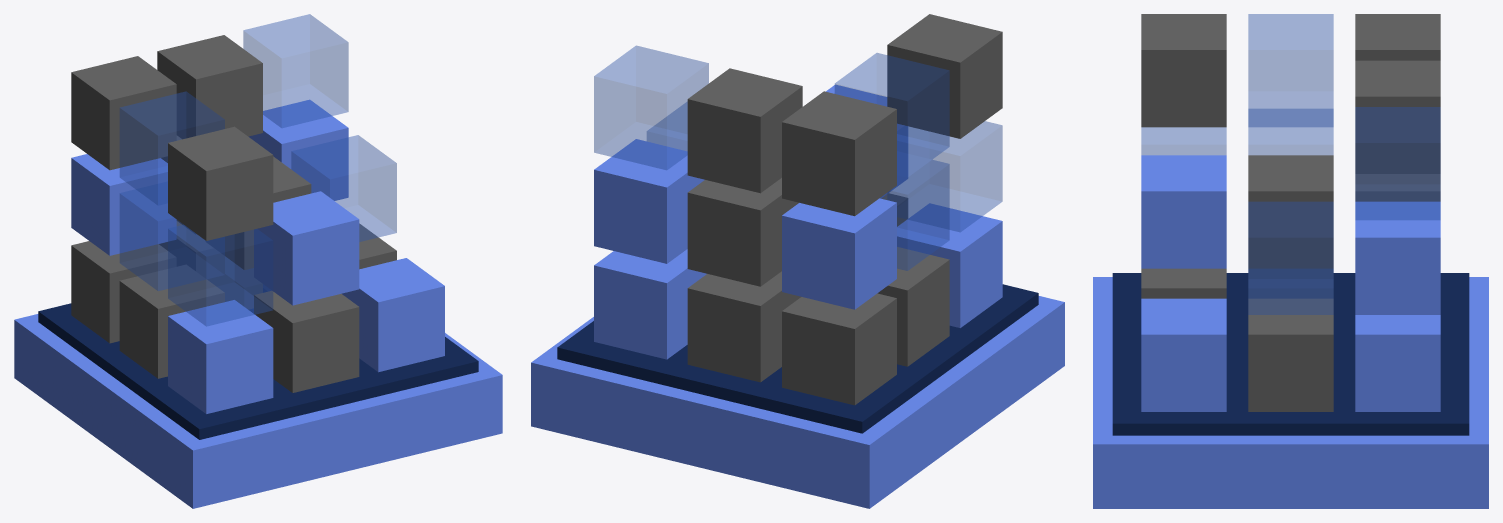
The model's file is cube-network.gltf.
The picture shows the model from 3 angles, left to right: view 1: azimuth 30°, elevation 25°; view 2: azimuth 150°, elevation 25°; view 3: azimuth 270°, elevation 25°; orthographic projection. The views are drawn at different scales.
Parts seen in each view (by area): view 1: Plane.001, Cube, Cube.030, Cube.012, Cube.027, Cube.019, Cube.026, Cube.021, Cube.011, Cube.018, Cube.025, Cube.010 (+10 smaller); view 2: Plane.001, Cube, Cube.027, Cube.030, Cube.025, Cube.009, Cube.026, Cube.018, Cube.017, Cube.021, Cube.007, Cube.008 (+7 smaller); view 3: Plane.001, Cube, Cube.011, Cube.013, Cube.019, Cube.025, Cube.030, Cube.002, Cube.017, Cube.014, Cube.024, Cube.026 (+8 smaller).
Boxes of the visible parts, <box> form: Plane.001: <box>14,314,502,508</box>; Cube: <box>38,288,478,439</box>; Cube.030: <box>168,126,273,240</box>; Cube.012: <box>168,300,273,413</box>; Cube.027: <box>71,56,176,170</box>; Cube.019: <box>254,191,359,305</box>; Cube.026: <box>243,14,348,127</box>; Cube.021: <box>168,225,272,326</box>; Cube.011: <box>342,258,444,372</box>; Cube.018: <box>71,154,176,255</box>; Cube.025: <box>157,35,262,139</box>; Cube.010: <box>254,291,359,392</box>; Plane.001: <box>531,296,1064,508</box>; Cube: <box>557,284,1038,433</box>; Cube.027: <box>782,91,896,216</box>; Cube.030: <box>887,14,1002,138</box>; Cube.025: <box>687,68,802,193</box>; Cube.009: <box>782,293,896,405</box>; Cube.026: <box>594,45,708,169</box>; Cube.018: <box>782,198,896,309</box>; Cube.017: <box>594,139,704,263</box>; Cube.021: <box>887,121,1002,232</box>; Cube.007: <box>687,271,801,382</box>; Cube.008: <box>594,249,706,359</box>; Plane.001: <box>1093,277,1488,508</box>; Cube: <box>1112,273,1469,435</box>; Cube.011: <box>1141,298,1226,411</box>; Cube.013: <box>1248,155,1333,268</box>; Cube.019: <box>1141,155,1226,268</box>; Cube.025: <box>1355,60,1440,173</box>; Cube.030: <box>1141,14,1226,127</box>; Cube.002: <box>1248,298,1333,411</box>; Cube.017: <box>1355,201,1440,314</box>; Cube.014: <box>1248,202,1333,314</box>; Cube.024: <box>1248,14,1333,126</box>; Cube.026: <box>1355,107,1440,219</box>.
Size of the model in its own units: 11.09 by 10.72 by 11.09.
